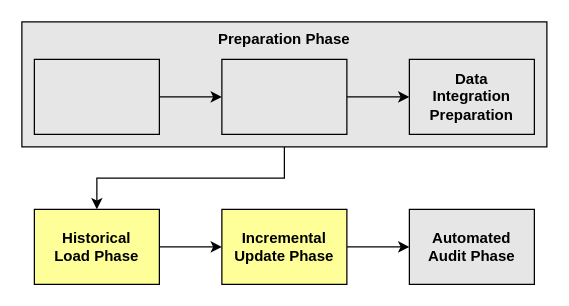
The diagram is 569 pixels wide and 306 high, and some of its shapes have lost their labels. Each missing label, with the centre of its shape:
"Data Generation" belongs at (x=96, y=96).
"Data Warehouse Creation" belongs at (x=284, y=96).
